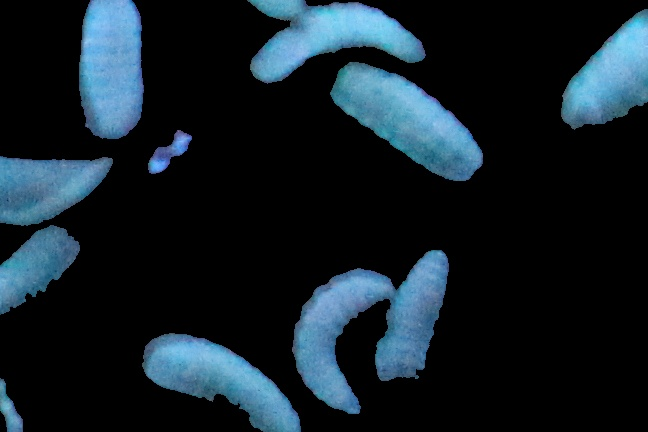larvae: (321, 66, 490, 184), (142, 329, 303, 432), (289, 269, 397, 415), (247, 4, 439, 84), (557, 4, 648, 129), (377, 246, 456, 382), (1, 140, 116, 228), (80, 1, 143, 146), (1, 226, 85, 323)
